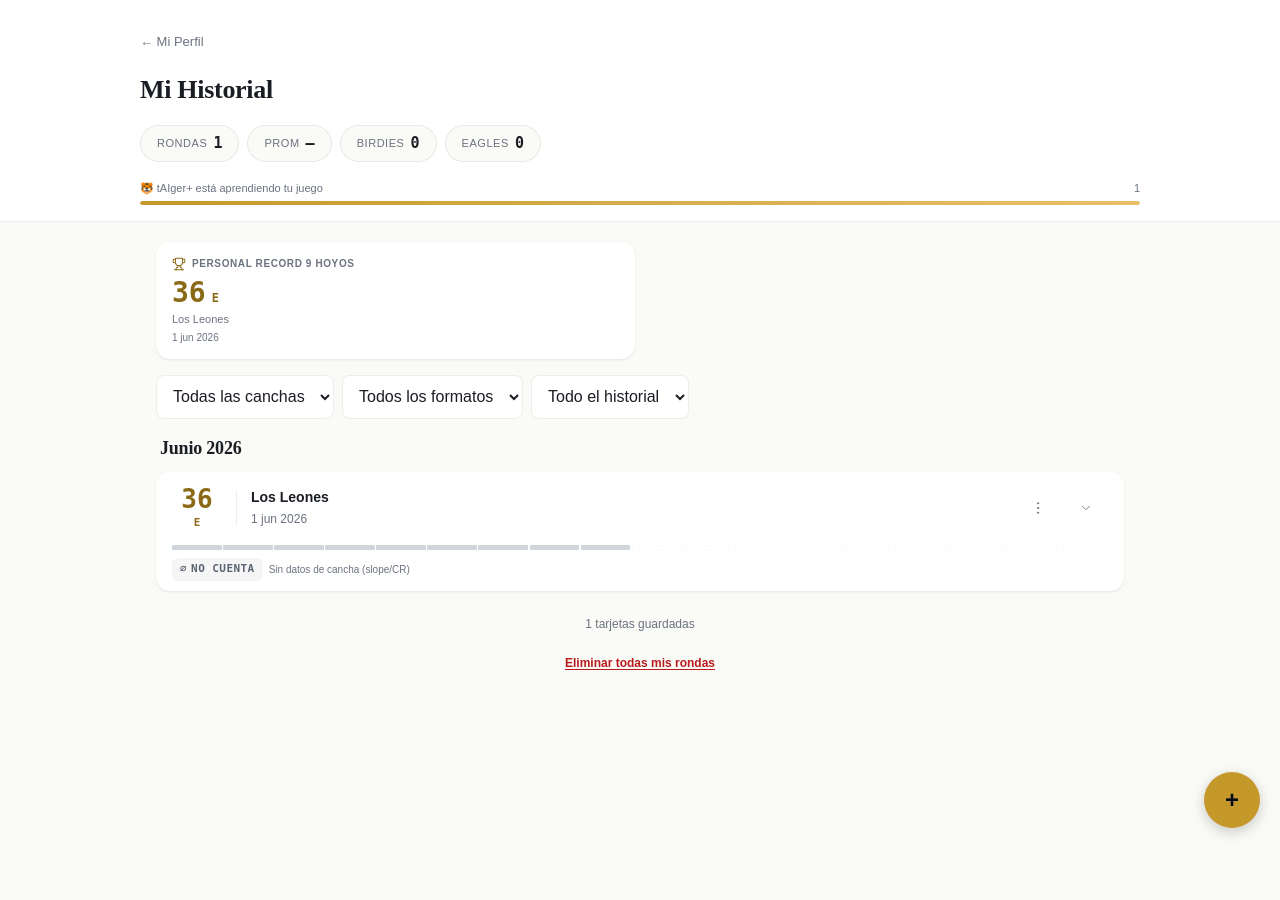
Historial — flujo de botones › Borrado masivo → checkbox habilita confirmar → se vacía la lista
The image size is (1280, 900).
Click the button with test id "historial-bulk-delete-open". click: x=640, y=662
box: [553, 640, 727, 684]
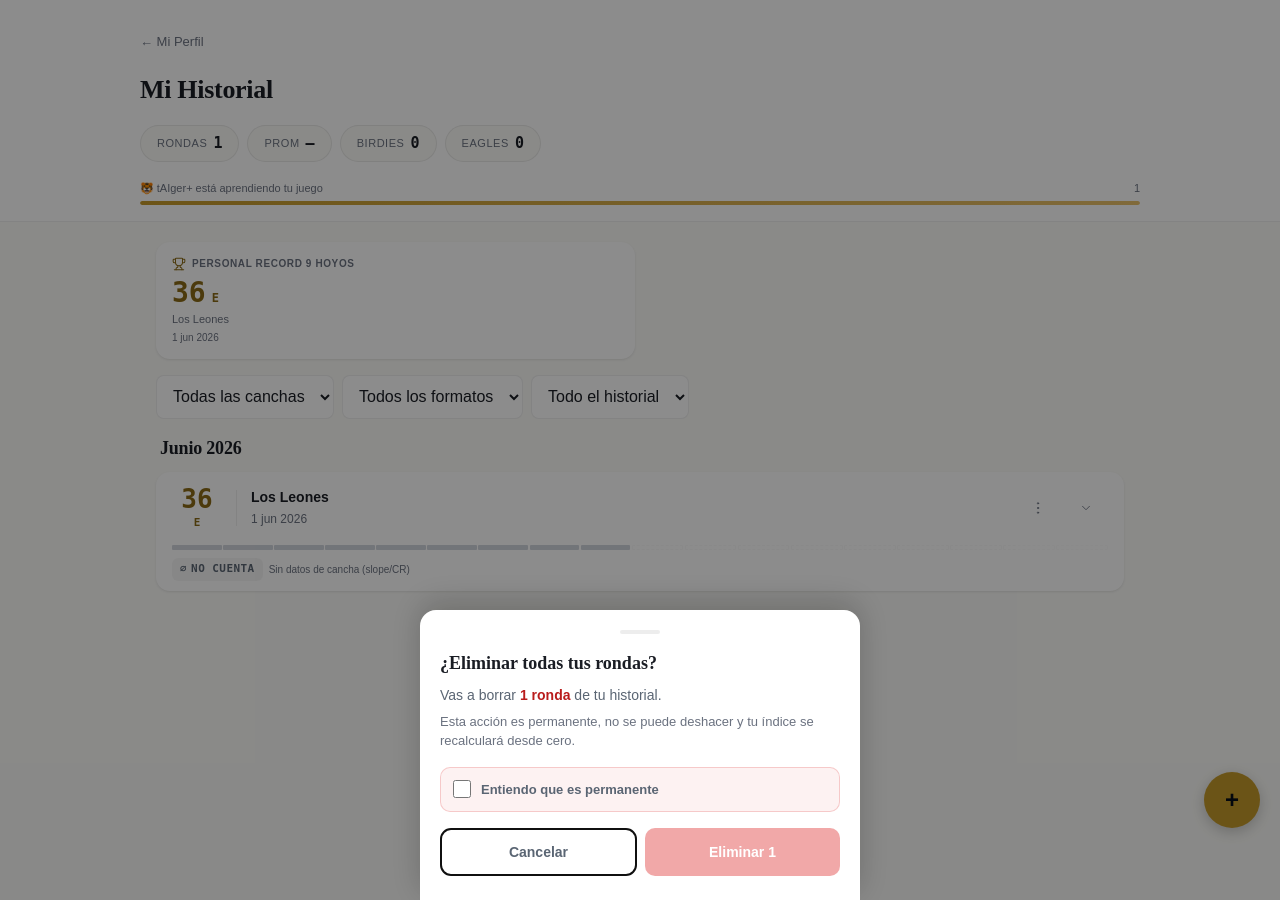
Check: the button with test id "historial-bulk-delete-confirm" is disabled, box [645, 828, 840, 876]
Click the checkbox with test id "historial-bulk-delete-understood". click: x=462, y=789
box: [453, 780, 471, 798]
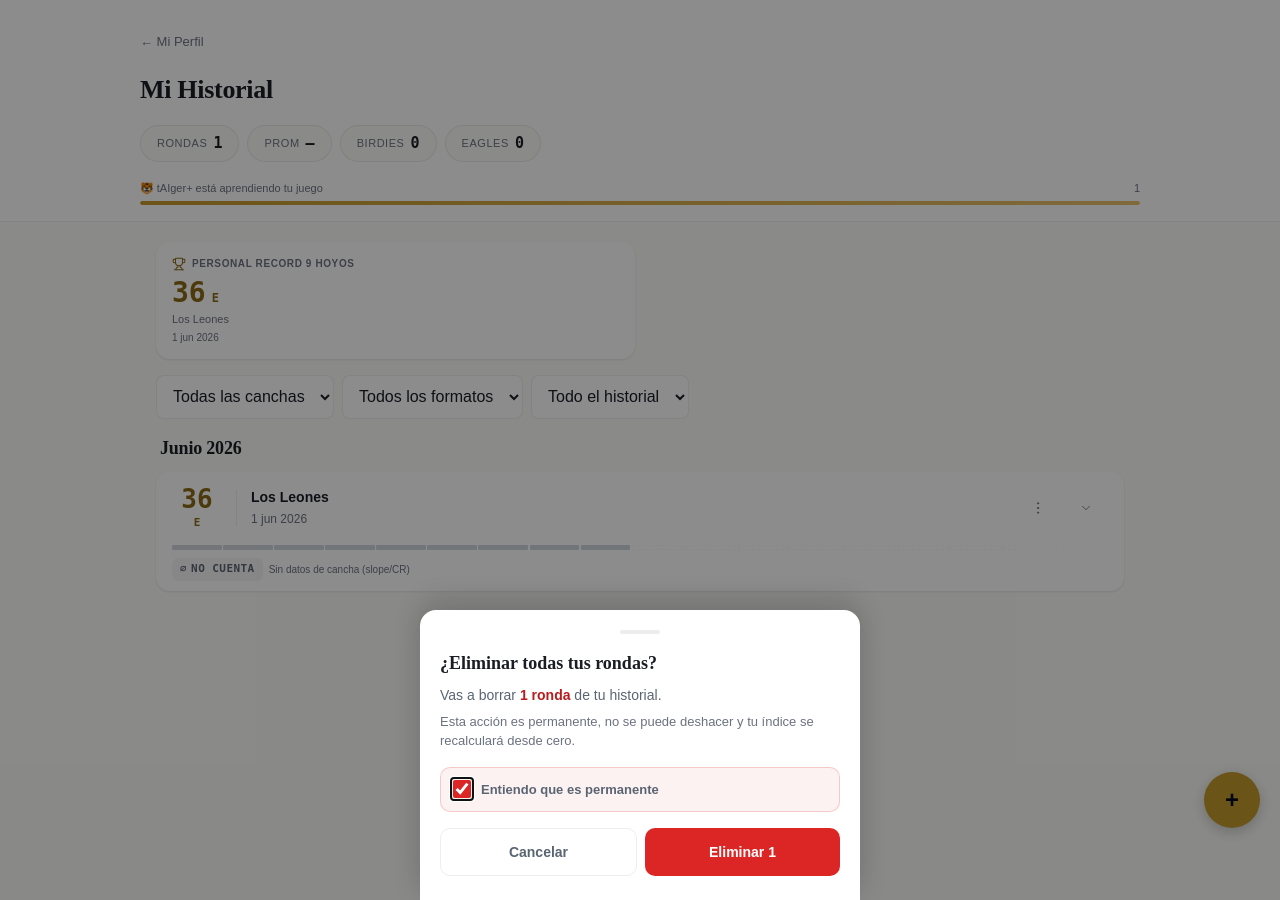
Check: the button with test id "historial-bulk-delete-confirm" is enabled
Click the button with test id "historial-bulk-delete-confirm". click: x=742, y=852
box: [645, 828, 840, 876]
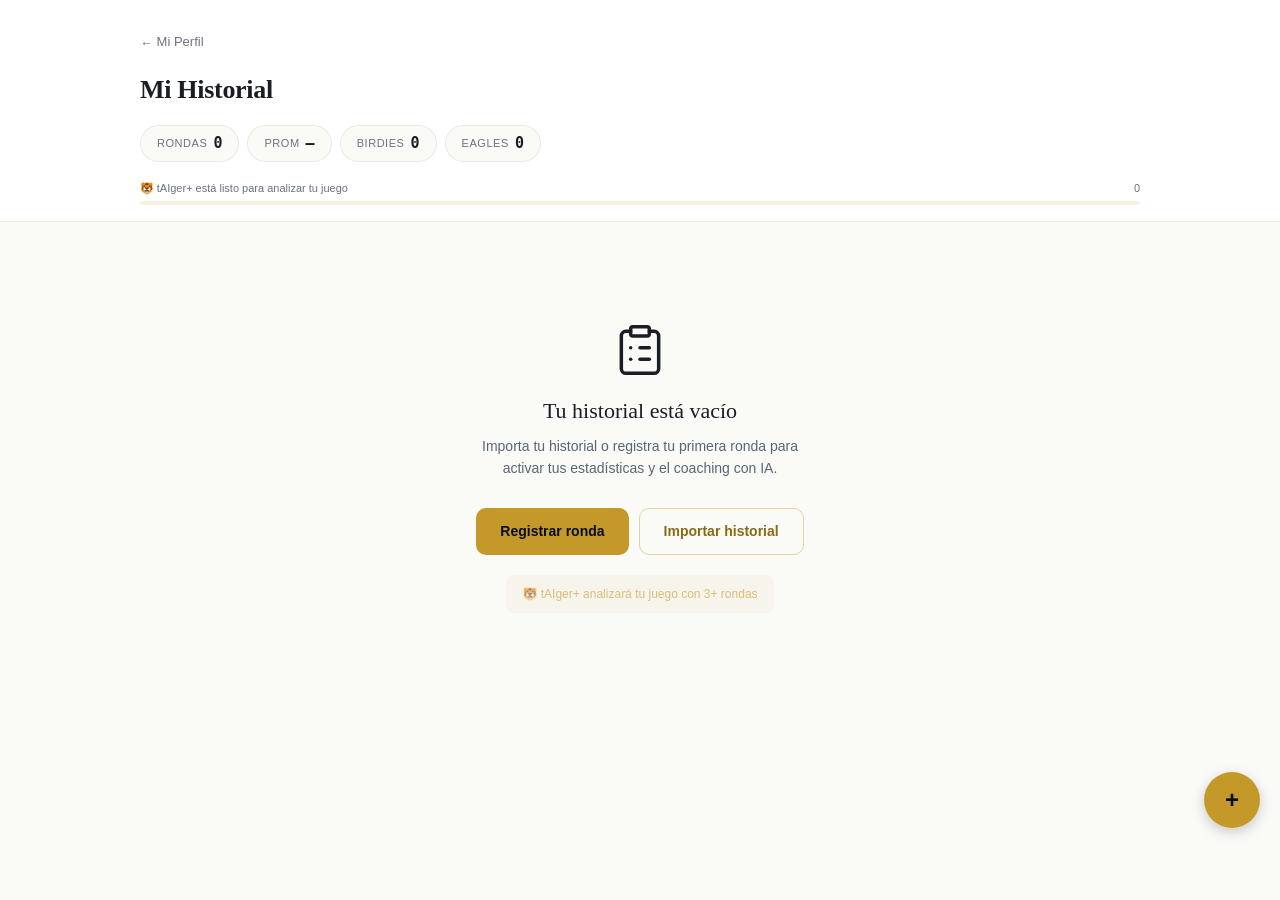
Check: the element with id "round-card-r1" is gone
